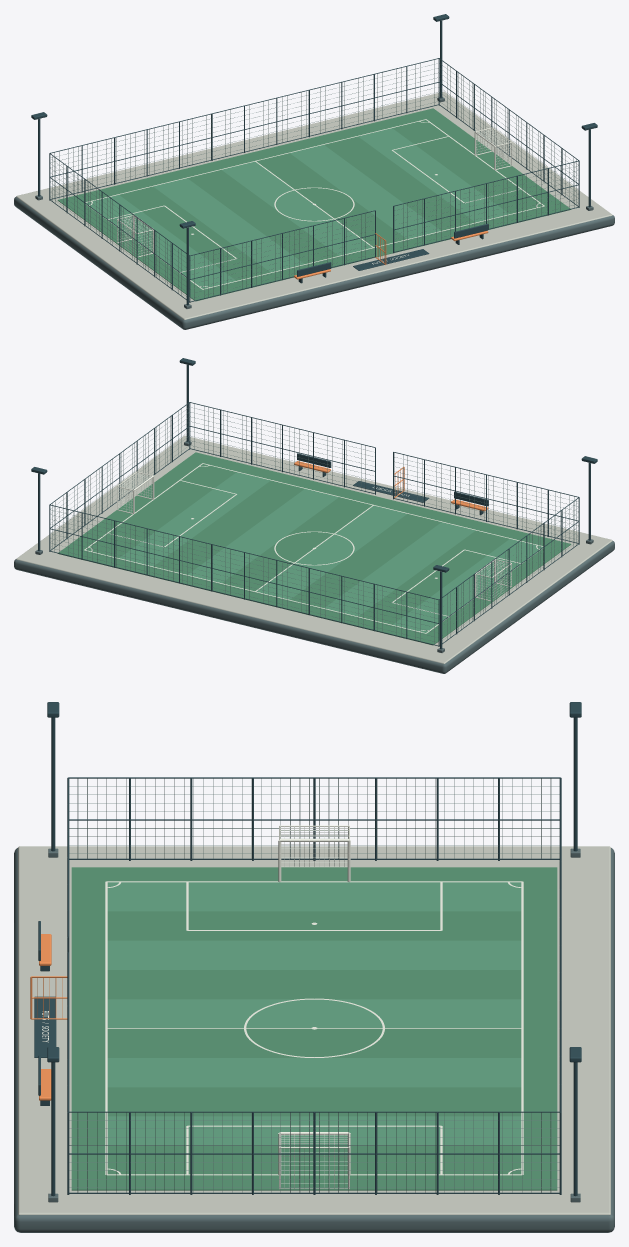
The model's file is fut5.glb.
The picture shows the model from 3 angles, top to bottom: view 1: azimuth 30°, elevation 25°; view 2: azimuth 150°, elevation 25°; view 3: azimuth 270°, elevation 25°; orthographic projection. The views are drawn at different scales.
Parts seen in each view (by area): view 1: 02_Passeio_perimetral, 05_Alambrado_malha, 03_Gramado_base, 04_Alambrado_estrutura, 01_Base, Grama_faixa_07, Grama_faixa_02, Grama_faixa_03, Grama_faixa_06, Grama_faixa_08, Grama_faixa_09, Grama_faixa_04 (+7 smaller); view 2: 02_Passeio_perimetral, 03_Gramado_base, 05_Alambrado_malha, 04_Alambrado_estrutura, 01_Base, Grama_faixa_02, Grama_faixa_03, Grama_faixa_07, Grama_faixa_06, Grama_faixa_08, Grama_faixa_04, Grama_faixa_09 (+7 smaller); view 3: 02_Passeio_perimetral, 03_Gramado_base, 05_Alambrado_malha, 01_Base, Grama_faixa_02, Grama_faixa_06, Grama_faixa_03, Grama_faixa_07, Grama_faixa_00, Grama_faixa_05, Grama_faixa_01, Grama_faixa_04 (+9 smaller).
Boxes of the visible parts, x1,y1,x2,y2 form: 02_Passeio_perimetral: (16,91,612,319); 05_Alambrado_malha: (50,60,578,300); 03_Gramado_base: (57,108,571,301); 04_Alambrado_estrutura: (49,58,579,302); 01_Base: (14,197,614,329); Grama_faixa_07: (324,136,475,230); Grama_faixa_02: (153,178,304,272); Grama_faixa_03: (187,170,338,263); Grama_faixa_06: (290,145,440,238); Grama_faixa_08: (358,128,509,222); Grama_faixa_09: (392,120,542,213); Grama_faixa_04: (221,161,372,255); 02_Passeio_perimetral: (16,435,612,663); 03_Gramado_base: (57,452,571,645); 05_Alambrado_malha: (50,404,578,644); 04_Alambrado_estrutura: (49,402,579,646); 01_Base: (14,541,614,673); Grama_faixa_02: (324,522,475,616); Grama_faixa_03: (290,514,441,607); Grama_faixa_07: (153,480,304,574); Grama_faixa_06: (188,489,338,582); Grama_faixa_08: (119,472,270,566); Grama_faixa_04: (256,505,407,599); Grama_faixa_09: (86,464,236,557); 02_Passeio_perimetral: (18,846,610,1215); 03_Gramado_base: (71,867,557,1190); 05_Alambrado_malha: (69,778,559,1192); 01_Base: (14,848,614,1232); Grama_faixa_02: (107,940,521,969); Grama_faixa_06: (107,1058,521,1087); Grama_faixa_03: (107,970,521,999); Grama_faixa_07: (107,1087,521,1116); Grama_faixa_00: (107,882,521,911); Grama_faixa_05: (107,1028,521,1057); Grama_faixa_01: (107,911,521,940); Grama_faixa_04: (107,999,521,1027).
Bounding box in the file's own units: 38 × 8.1 × 26.
